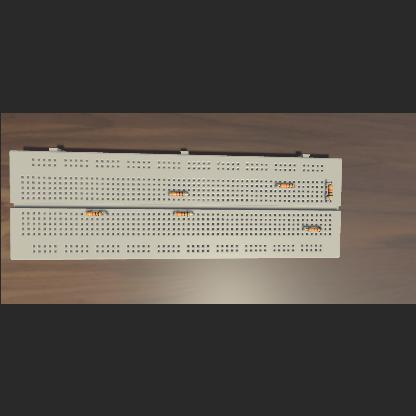breadboard: (9, 147, 341, 259)
resistor: (326, 184, 332, 198), (85, 211, 101, 215), (306, 227, 320, 231), (175, 212, 189, 216), (170, 192, 184, 196), (279, 183, 293, 187)
wire: (301, 228, 307, 230), (324, 198, 330, 200), (324, 181, 330, 183), (274, 184, 278, 186), (320, 228, 322, 230), (173, 213, 175, 214), (190, 213, 192, 214), (184, 194, 188, 194), (167, 194, 169, 194), (293, 186, 295, 186)
